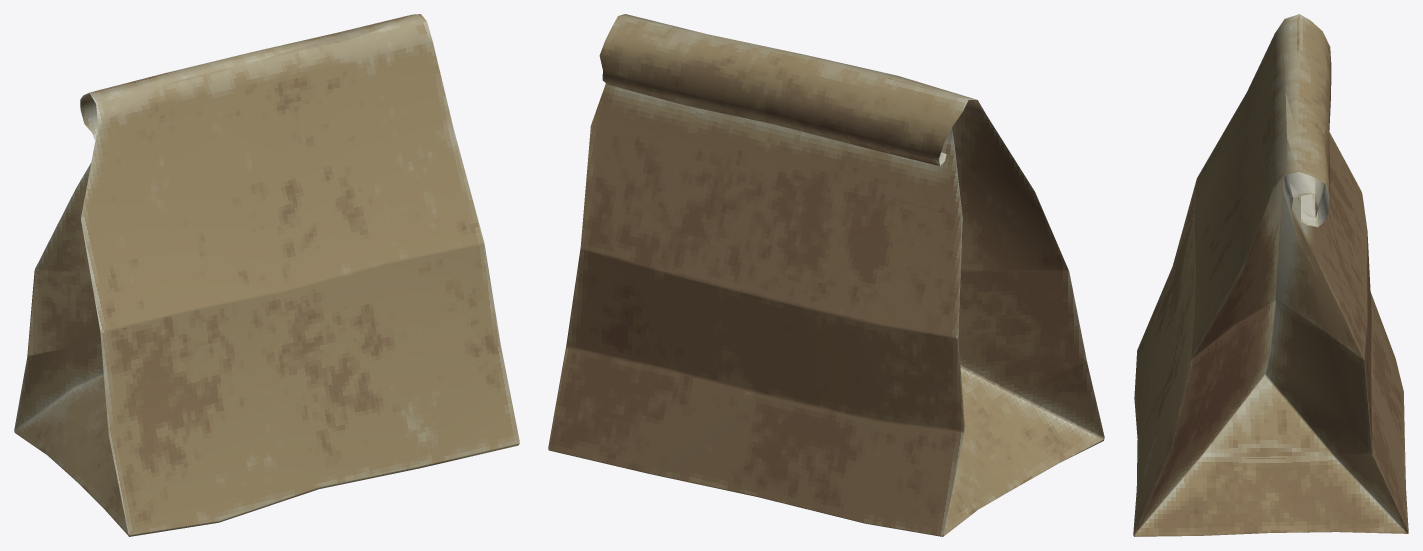
File: wear_paperbag.glb
3 renders of one model, left to right at view 1: azimuth 30°, elevation 25°; view 2: azimuth 150°, elevation 25°; view 3: azimuth 270°, elevation 25°, orthographic. The views are drawn at different scales.
Parts seen in each view (by area): view 1: mesh; view 2: mesh; view 3: mesh.
Part boxes in pixels (<box>): mesh: <box>14,14,519,536</box>; mesh: <box>548,14,1104,536</box>; mesh: <box>1133,14,1408,536</box>.
Size of the model in its own units: 0.3224 by 0.3 by 0.2038.
1 material, 1 textured.
